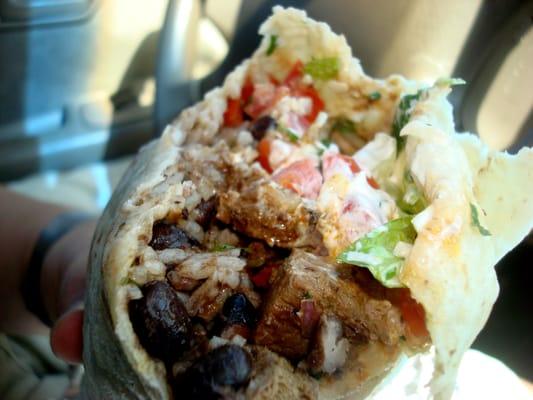soup: (92, 2, 531, 399)
